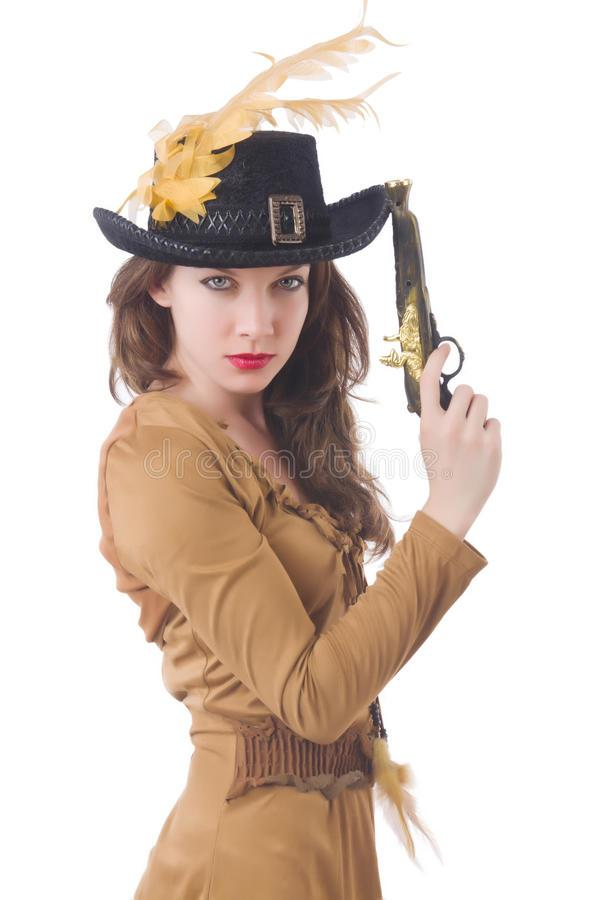criminal: (93, 24, 502, 900)
weapon: (382, 180, 472, 423)
